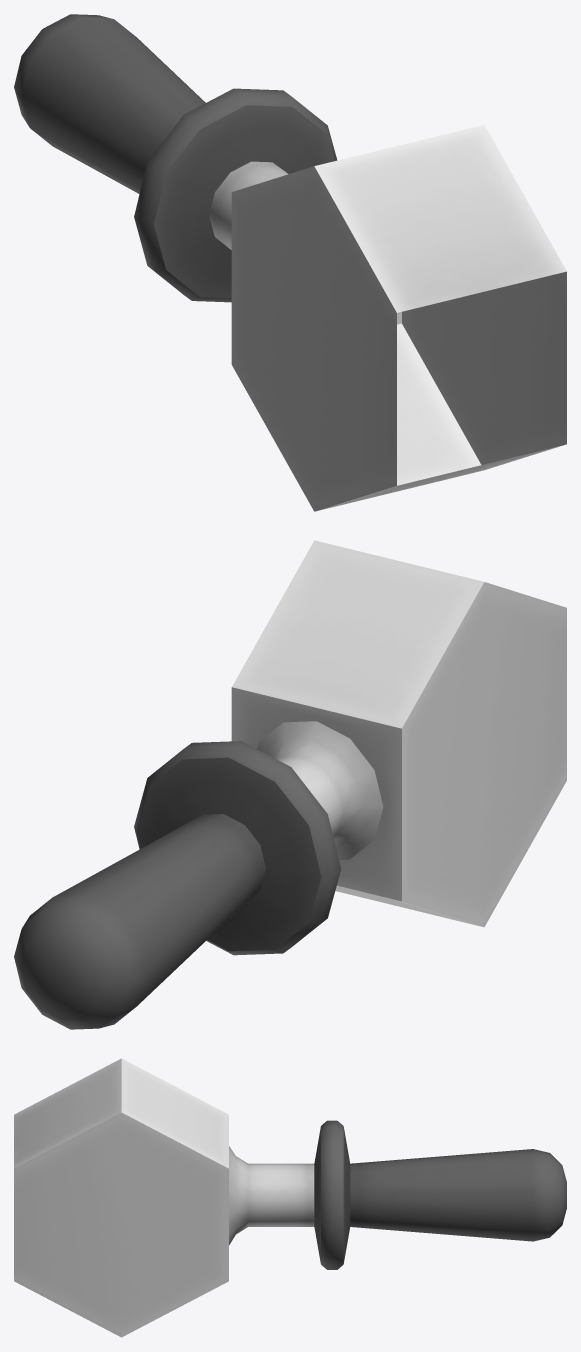
File: SM_Switch_2_Rod.fbx
3 renders of one model, top to bottom at view 1: azimuth 30°, elevation 25°; view 2: azimuth 150°, elevation 25°; view 3: azimuth 270°, elevation 25°, orthographic. The views are drawn at different scales.
Parts seen in each view (by area): view 1: Switcher; view 2: Switcher; view 3: Switcher.
Boxes of the visible parts, <box> form: Switcher: <box>14,14,566,511</box>; Switcher: <box>14,540,566,1029</box>; Switcher: <box>14,1058,566,1337</box>.
Bounding box in the file's own units: 0.1936 × 0.3211 × 0.7149.
1 material, 1 textured.
